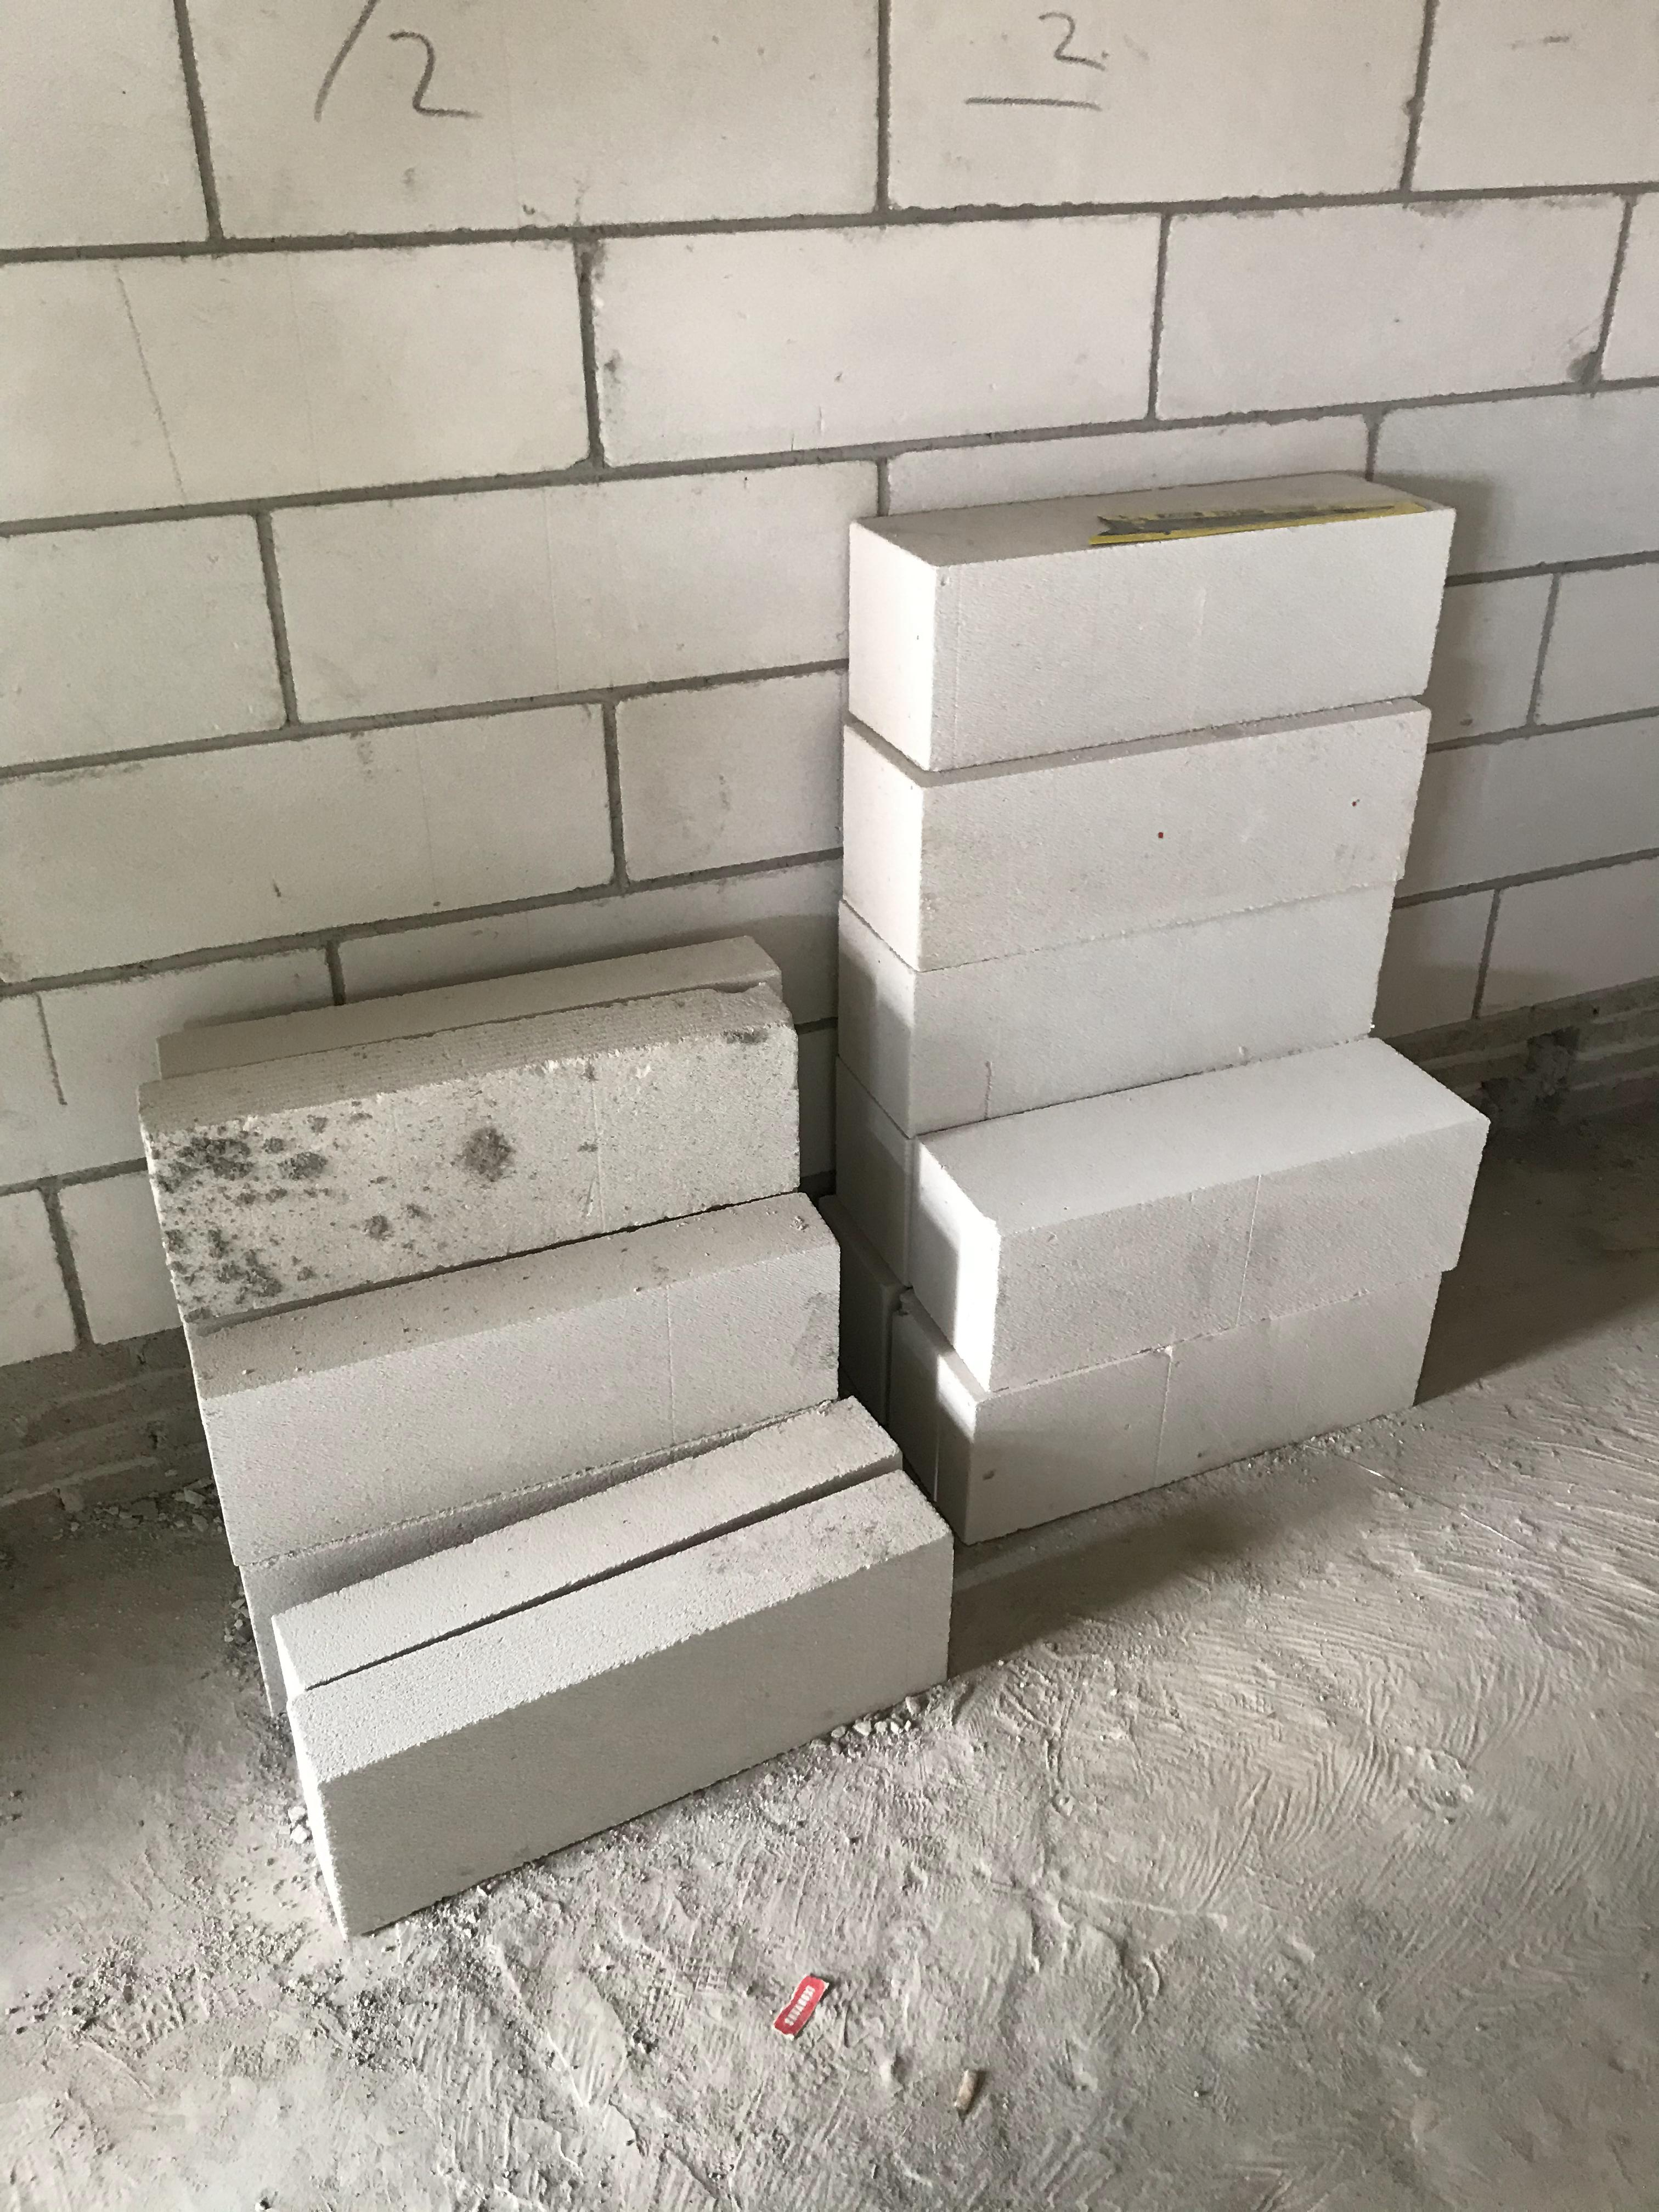brick: (453, 162, 1659, 1521)
